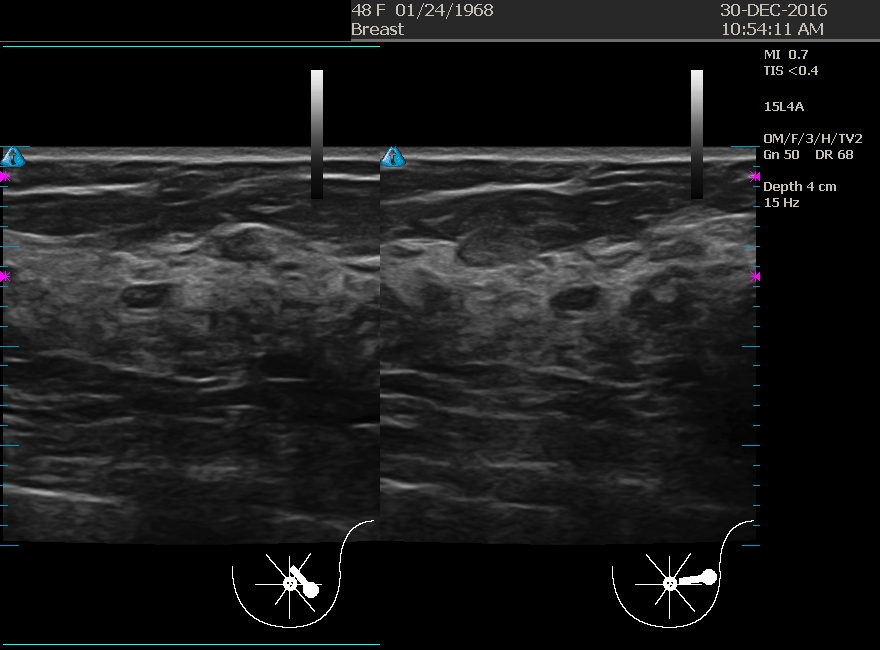BIRADS_2: (49, 197, 249, 397), (467, 202, 667, 402)
